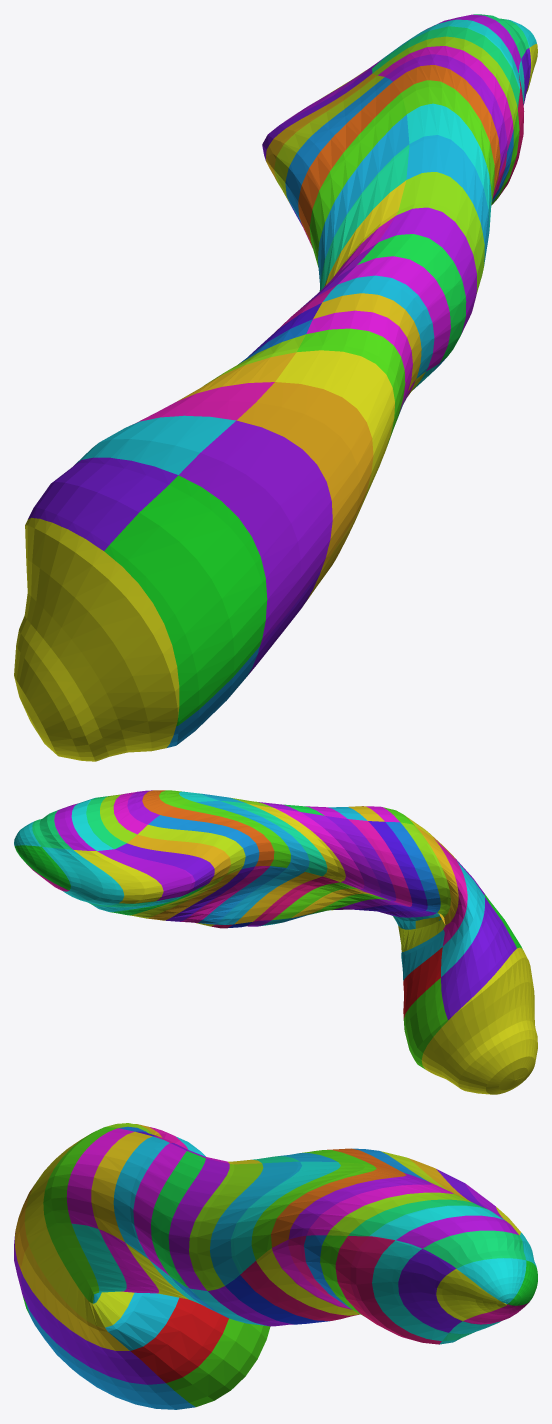
Rendered from pancreas-male-vu.glb.
The picture shows the model from 3 angles, top to bottom: view 1: azimuth 30°, elevation 25°; view 2: azimuth 150°, elevation 25°; view 3: azimuth 270°, elevation 25°; orthographic projection. The views are drawn at different scales.
Visible parts, largest first — view 1: world, 24D, 23D, 22D, 24C, 21D, 23C, 15D, 13D, 10C, 16D, 14D (+24 smaller); view 2: world, 24C, 2C, 24B, 3C, 23C, 4C, 7C, 6C, 5C, 8C, 18C (+39 smaller); view 3: 23B, 24B, 23A, 13D, 14D, 2A, 12D, 3A, 24A, 15D, 2D, 11D (+45 smaller).
Part boxes in pixels (<box>): world: <box>14,517,179,761</box>; 24D: <box>104,475,267,726</box>; 23D: <box>179,420,332,645</box>; 22D: <box>237,382,373,566</box>; 24C: <box>28,457,178,550</box>; 21D: <box>275,350,394,498</box>; 23C: <box>76,415,236,474</box>; 15D: <box>357,234,466,362</box>; 13D: <box>396,172,484,293</box>; 10C: <box>309,93,406,267</box>; 16D: <box>338,256,450,370</box>; 14D: <box>378,207,476,334</box>; world: <box>421,947,537,1094</box>; 24C: <box>441,897,516,1020</box>; 2C: <box>42,847,124,903</box>; 24B: <box>403,978,447,1069</box>; 3C: <box>74,850,163,903</box>; 23C: <box>441,861,484,976</box>; 4C: <box>97,849,195,900</box>; 7C: <box>138,824,245,875</box>; 6C: <box>127,834,230,883</box>; 5C: <box>115,843,214,893</box>; 8C: <box>148,815,259,869</box>; 18C: <box>368,821,427,910</box>; 23B: <box>130,1297,228,1382</box>; 24B: <box>166,1318,270,1406</box>; 23A: <box>21,1271,165,1384</box>; 13D: <box>189,1163,263,1290</box>; 14D: <box>168,1158,229,1290</box>; 2A: <box>398,1249,462,1332</box>; 12D: <box>210,1161,301,1285</box>; 3A: <box>372,1240,448,1341</box>; 24A: <box>26,1303,195,1409</box>; 15D: <box>151,1151,205,1287</box>; 2D: <box>423,1230,525,1268</box>; 11D: <box>230,1161,340,1274</box>.
Bounding box in the file's own units: 0.1087 × 0.0714 × 0.0814.
